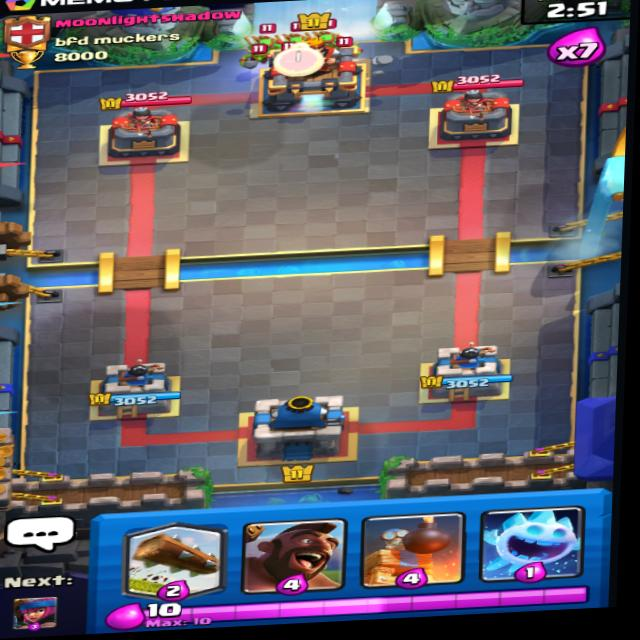goblin: (241, 42, 279, 68)
spear-goblin: (239, 23, 281, 53), (316, 21, 355, 49), (285, 26, 308, 47)
